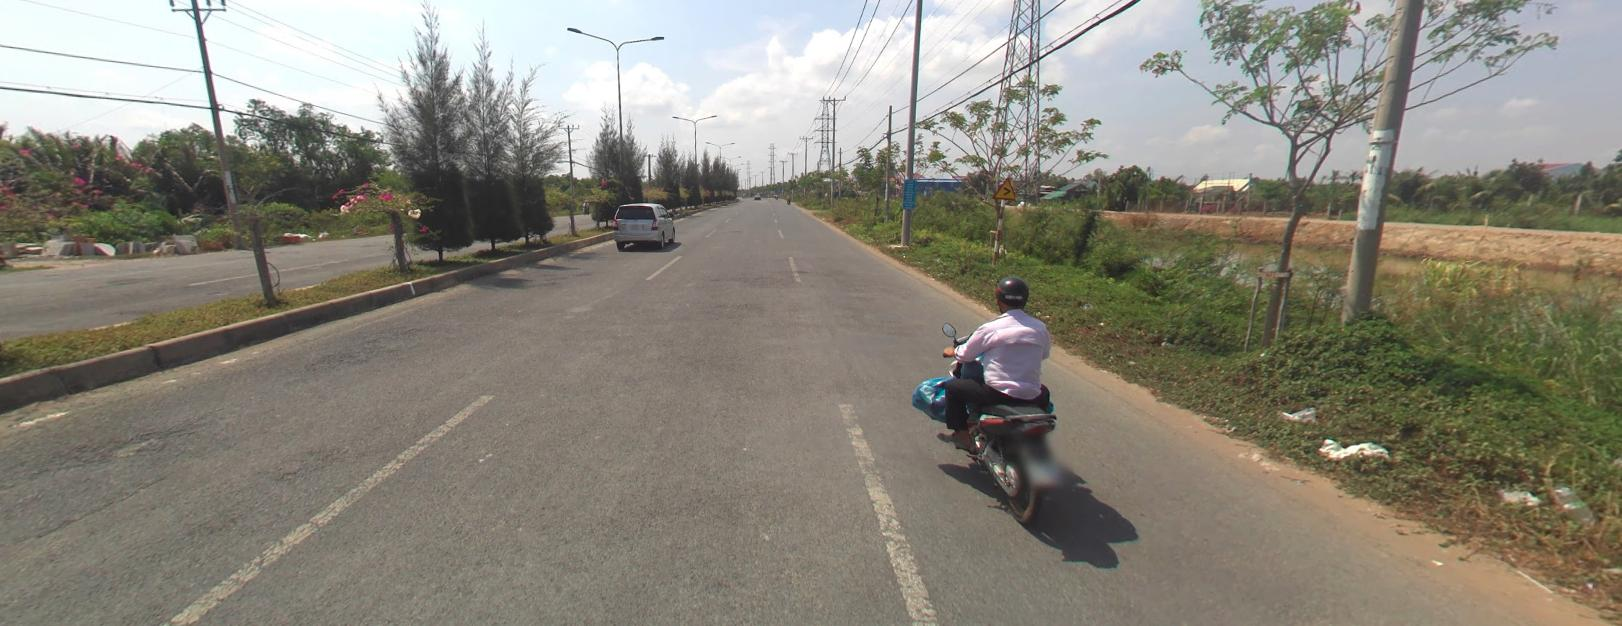Nguy hiem: (991, 175, 1016, 200), (992, 175, 1016, 199), (992, 175, 1016, 198), (993, 177, 1014, 198)
